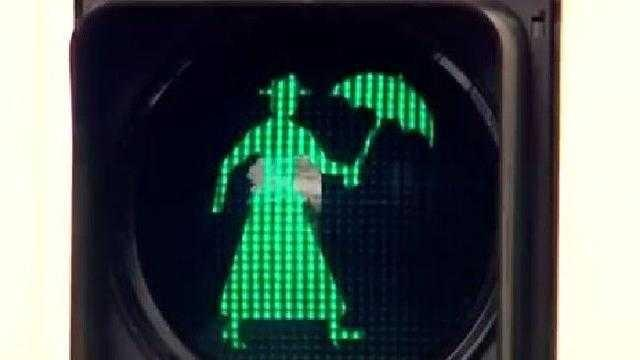green: (161, 36, 471, 356)
